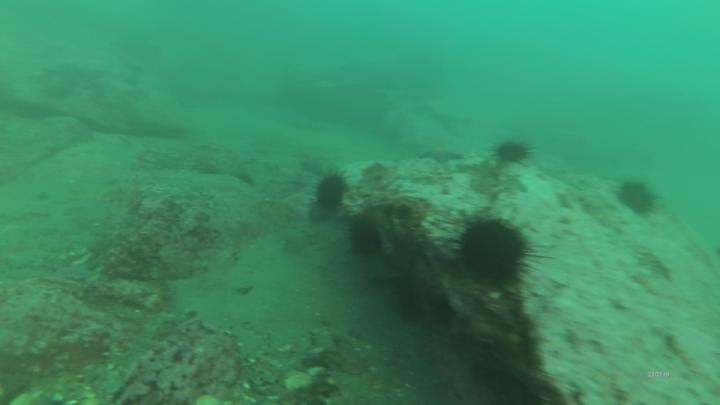echinus: (461, 224, 528, 279), (350, 223, 383, 257), (621, 182, 655, 214), (316, 177, 346, 213), (496, 142, 530, 162)
starfish: (421, 148, 467, 163)
